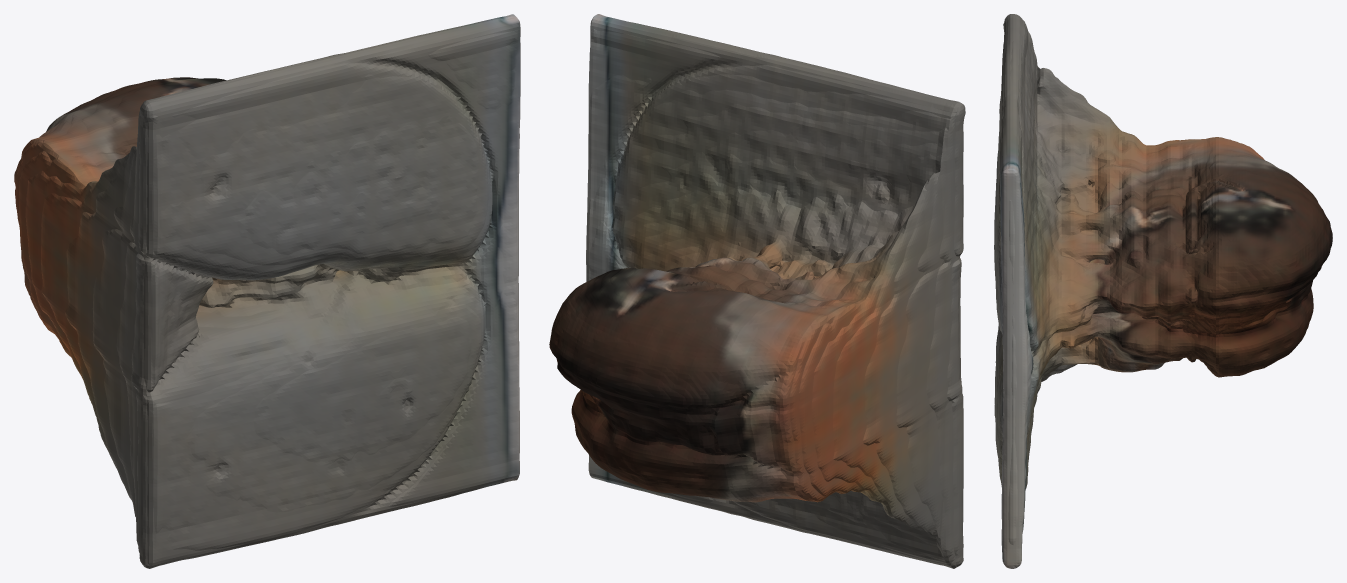
The model's file is triposr_test.obj.
3 renders of one model, left to right at view 1: azimuth 30°, elevation 25°; view 2: azimuth 150°, elevation 25°; view 3: azimuth 270°, elevation 25°, orthographic. The views are drawn at different scales.
Size of the model in its own units: 0.842 by 1.01 by 0.7641.
